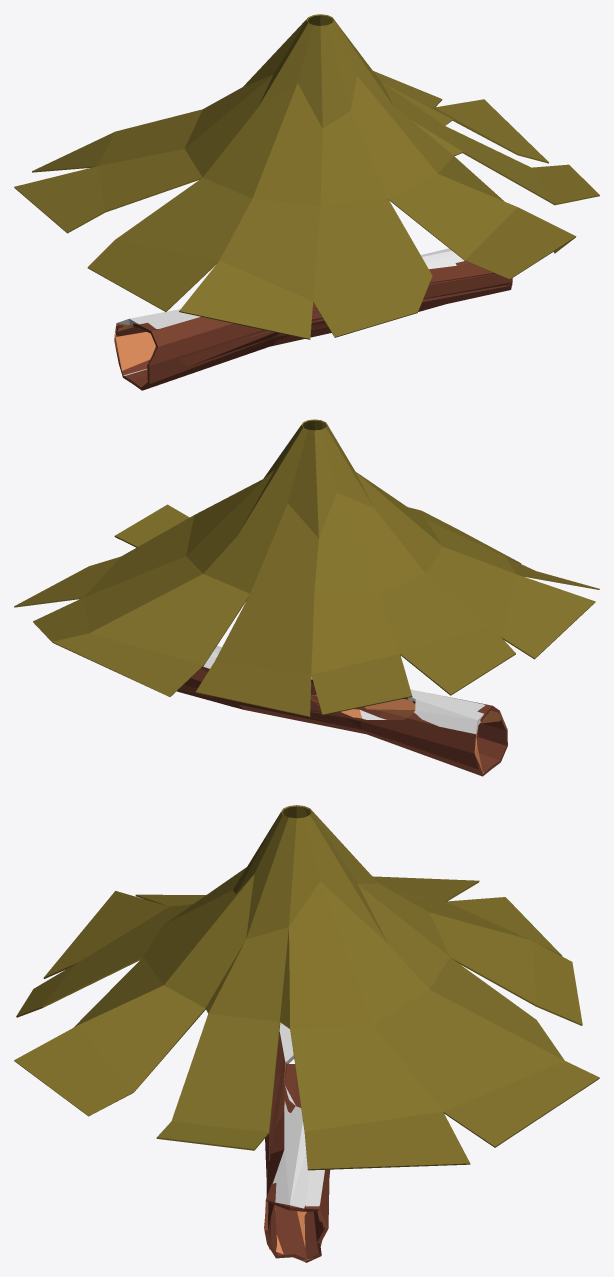
The model's file is pine_trunk_type_11_extra_LOD2.fbx.
The picture shows the model from 3 angles, top to bottom: view 1: azimuth 30°, elevation 25°; view 2: azimuth 150°, elevation 25°; view 3: azimuth 270°, elevation 25°; orthographic projection. The views are drawn at different scales.
Visible parts, largest first — view 1: CircleSave, pt_type_11_save.001, pt_type_11.001; view 2: CircleSave, pt_type_11_save.001, pt_type_11.001; view 3: CircleSave, pt_type_11.001, pt_type_11_save.001.
Part boxes in pixels (x1,y1,x2,y2): CircleSave: (14, 14, 599, 339); pt_type_11_save.001: (114, 261, 512, 390); pt_type_11.001: (114, 248, 512, 375); CircleSave: (14, 419, 599, 717); pt_type_11_save.001: (176, 669, 507, 776); pt_type_11.001: (179, 646, 506, 773); CircleSave: (14, 805, 599, 1170); pt_type_11.001: (264, 1022, 330, 1260); pt_type_11_save.001: (264, 1035, 329, 1262).
Size of the model in its own units: 1013 by 651 by 961.
